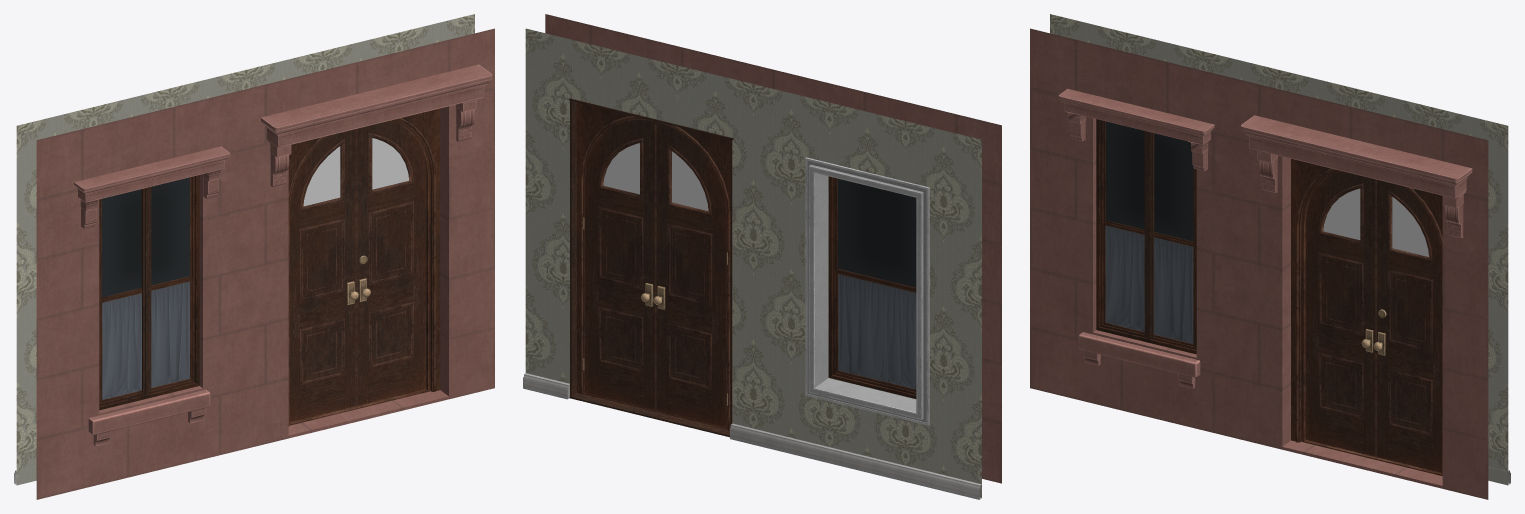
File: House_04_Wall_Door_01.fbx
3 renders of one model, left to right at view 1: azimuth 30°, elevation 25°; view 2: azimuth 150°, elevation 25°; view 3: azimuth 330°, elevation 25°, orthographic.
Visible parts, largest first — view 1: House_04_Wall_Door_01_LOD0, House_04_Door_01_LOD0; view 2: House_04_Wall_Door_01_LOD0, House_04_Door_01_LOD0; view 3: House_04_Wall_Door_01_LOD0, House_04_Door_01_LOD0.
Boxes of the visible parts, x1=… form: House_04_Wall_Door_01_LOD0: x1=14, y1=14, x2=494, y2=499; House_04_Door_01_LOD0: x1=356, y1=120, x2=426, y2=406; House_04_Wall_Door_01_LOD0: x1=523, y1=14, x2=1001, y2=499; House_04_Door_01_LOD0: x1=583, y1=119, x2=655, y2=410; House_04_Wall_Door_01_LOD0: x1=1030, y1=14, x2=1510, y2=499; House_04_Door_01_LOD0: x1=1373, y1=179, x2=1441, y2=473.
Size of what is drawn, in the model's own units: 400 by 300 by 56.63.
